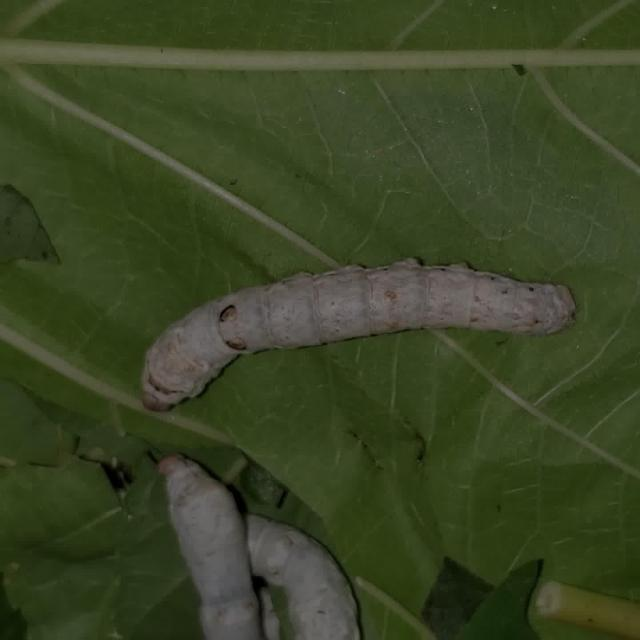Healthy: (118, 230, 602, 423)
